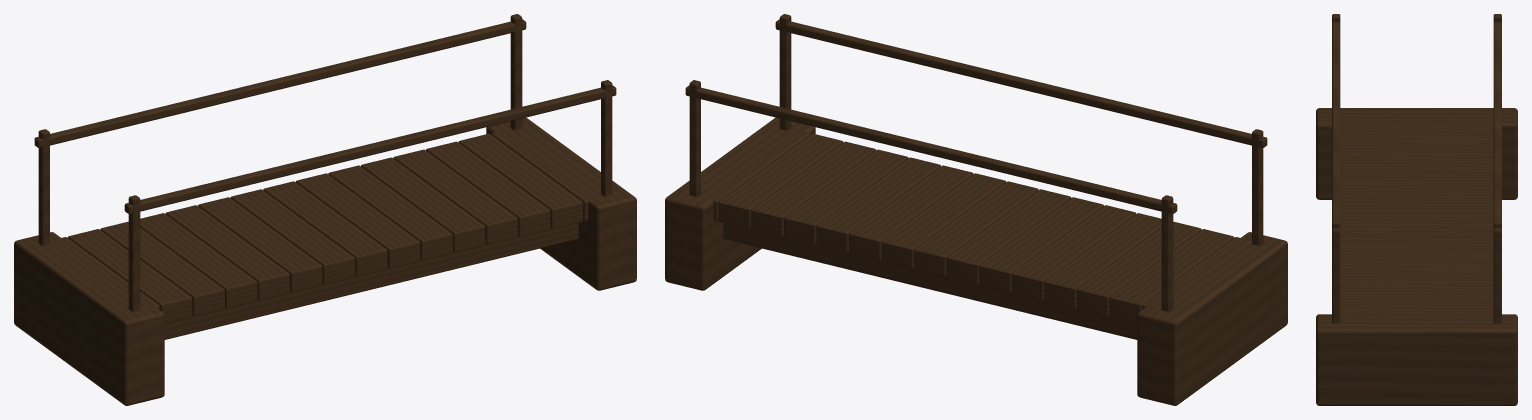
File: E04_Bridge.fbx
The picture shows the model from 3 angles, left to right: view 1: azimuth 30°, elevation 25°; view 2: azimuth 150°, elevation 25°; view 3: azimuth 270°, elevation 25°; orthographic projection. The views are drawn at different scales.
Visible parts, largest first — view 1: BridgeDeck_Mesh, Body_Mesh; view 2: BridgeDeck_Mesh, Body_Mesh; view 3: BridgeDeck_Mesh, Body_Mesh.
Boxes of the visible parts, x1,y1,x2,y2 form: BridgeDeck_Mesh: (34, 14, 616, 339); Body_Mesh: (14, 117, 636, 405); BridgeDeck_Mesh: (685, 14, 1267, 339); Body_Mesh: (665, 117, 1287, 405); BridgeDeck_Mesh: (1332, 14, 1501, 324); Body_Mesh: (1316, 108, 1517, 405).
Size of the model in its own units: 0.315 by 0.116 by 0.12.
